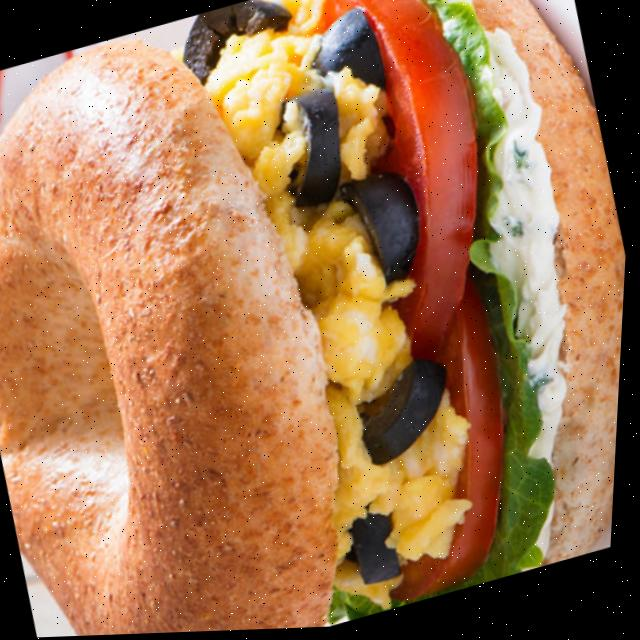Bagel: (0, 40, 343, 637)
